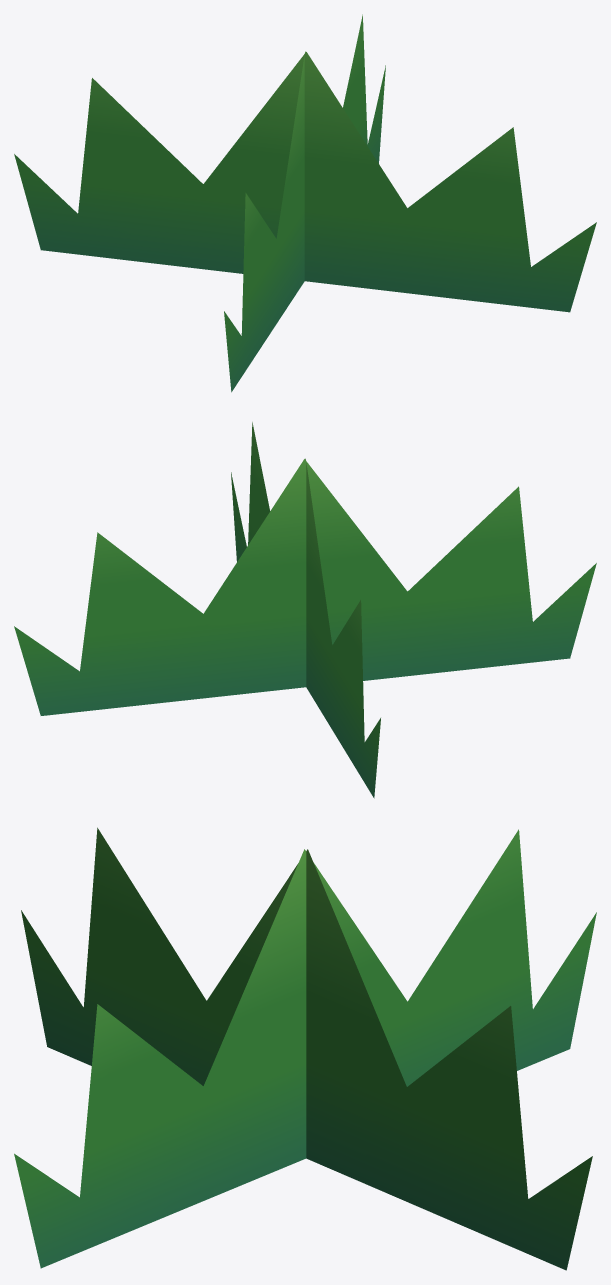
Rendered from grass.fbx.
3 renders of one model, top to bottom at view 1: azimuth 30°, elevation 25°; view 2: azimuth 150°, elevation 25°; view 3: azimuth 270°, elevation 25°, orthographic. The views are drawn at different scales.
Parts seen in each view (by area): view 1: Cylinder.013; view 2: Cylinder.013; view 3: Cylinder.013.
Part boxes in pixels (x1,y1,x2,y2): Cylinder.013: (14,14,596,392); Cylinder.013: (14,422,596,798); Cylinder.013: (14,827,596,1270).
Bounding box in the file's own units: 13.71 × 8.05 × 13.71.
